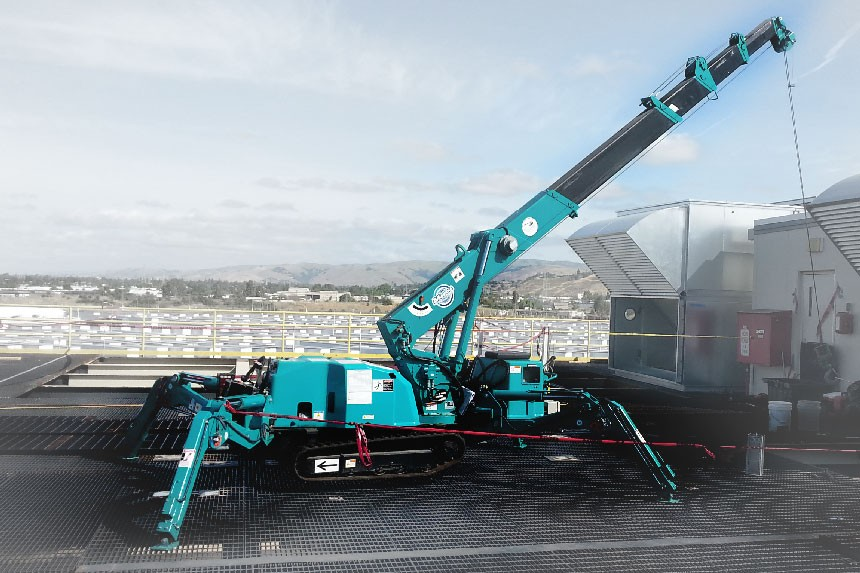crane: (134, 14, 800, 494)
